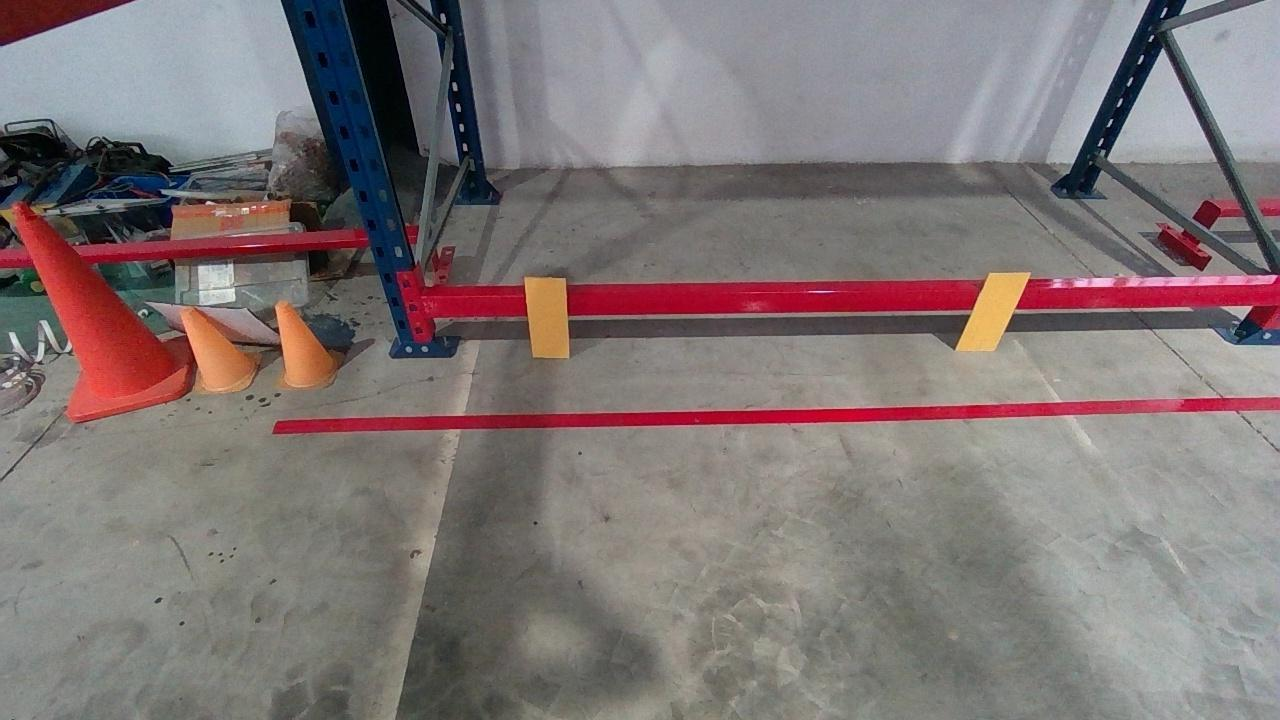h_rack: (421, 286, 1279, 316)
orange_strip: (956, 272, 1039, 351), (522, 277, 569, 357)
red_line: (273, 396, 1278, 431)
